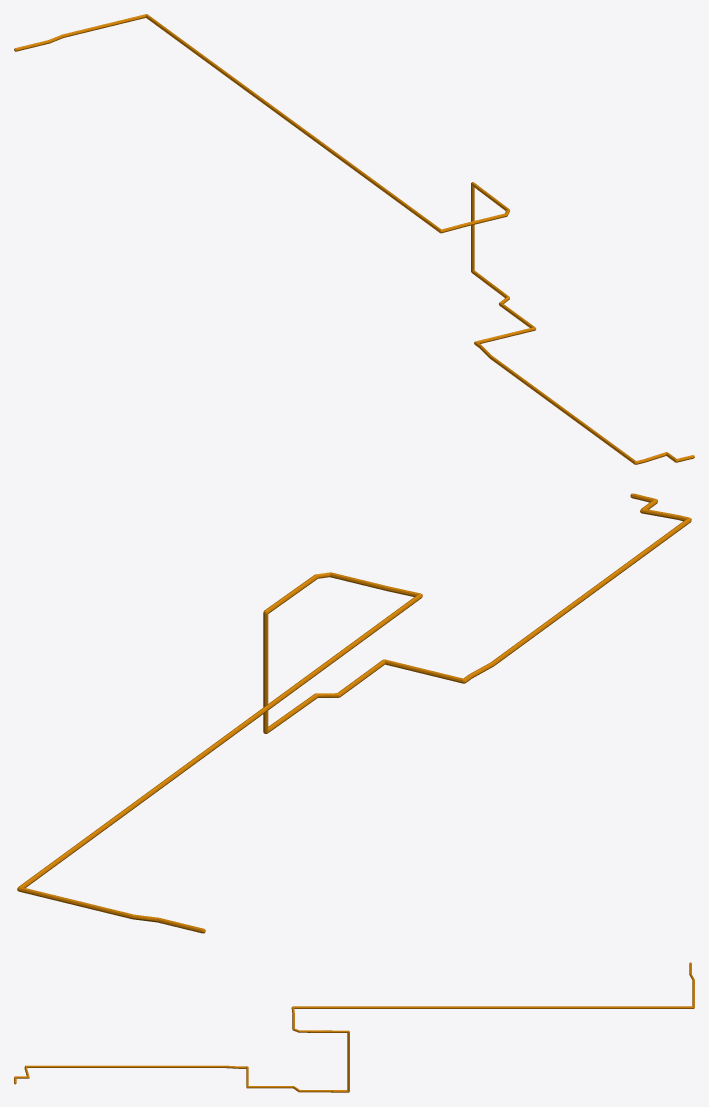
3 renders of one model, top to bottom at view 1: azimuth 30°, elevation 25°; view 2: azimuth 150°, elevation 25°; view 3: azimuth 270°, elevation 25°, orthographic. The views are drawn at different scales.
Bounding box in the file's own units: 1248 × 520 × 5183.
